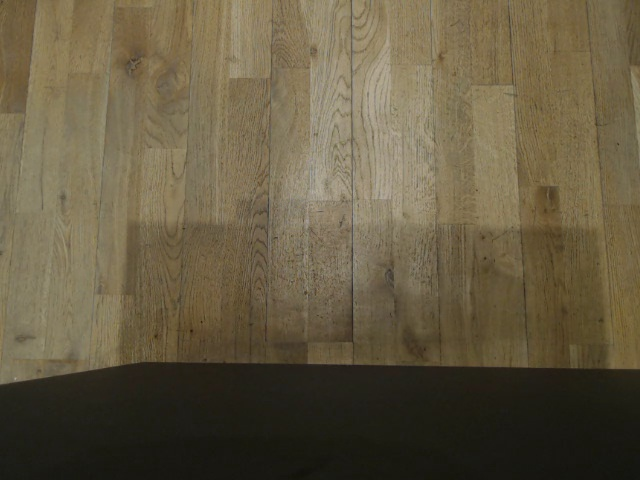beer: (260, 49, 347, 131), (129, 282, 217, 353), (216, 287, 304, 353), (447, 318, 549, 370)
cola: (77, 0, 168, 41)
